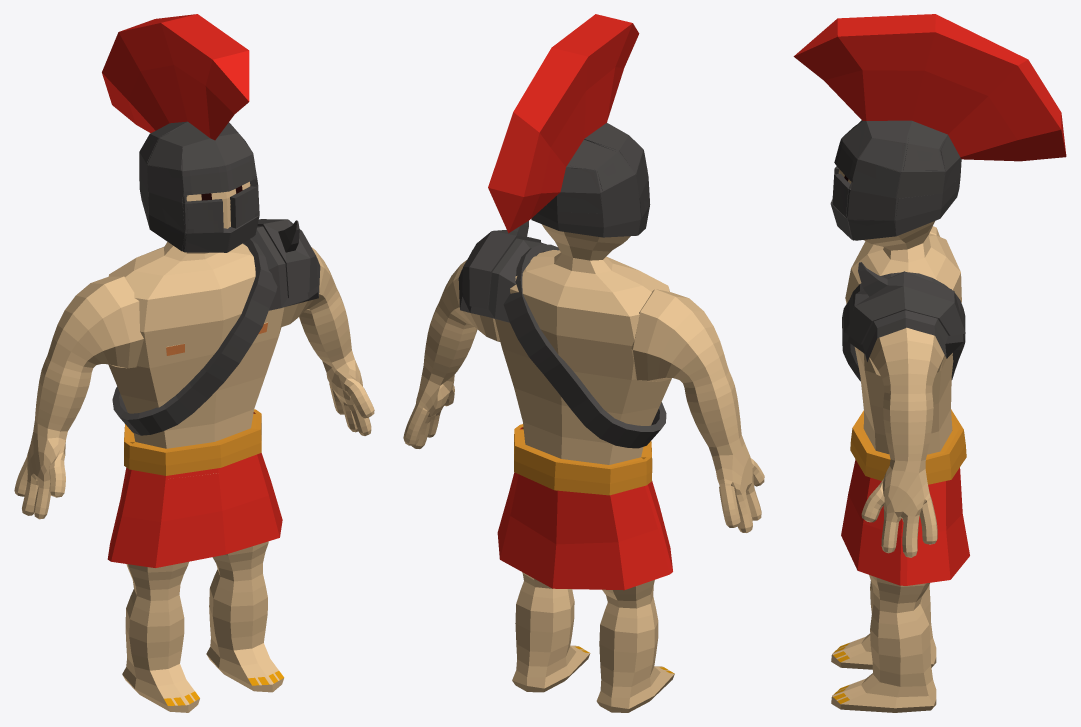
File: avatar.glb
3 views of the same model, side by side, from view 1: azimuth 30°, elevation 25°; view 2: azimuth 150°, elevation 25°; view 3: azimuth 270°, elevation 25° (orthographic).
Parts seen in each view (by area): view 1: Cube.001; view 2: Cube.001; view 3: Cube.001.
Part boxes in pixels (left/top/right/bottom): Cube.001: left=14, top=14, right=374, bottom=712; Cube.001: left=403, top=14, right=764, bottom=712; Cube.001: left=793, top=14, right=1066, bottom=712.
Size of the model in its own units: 2.33 by 4.27 by 1.59.
